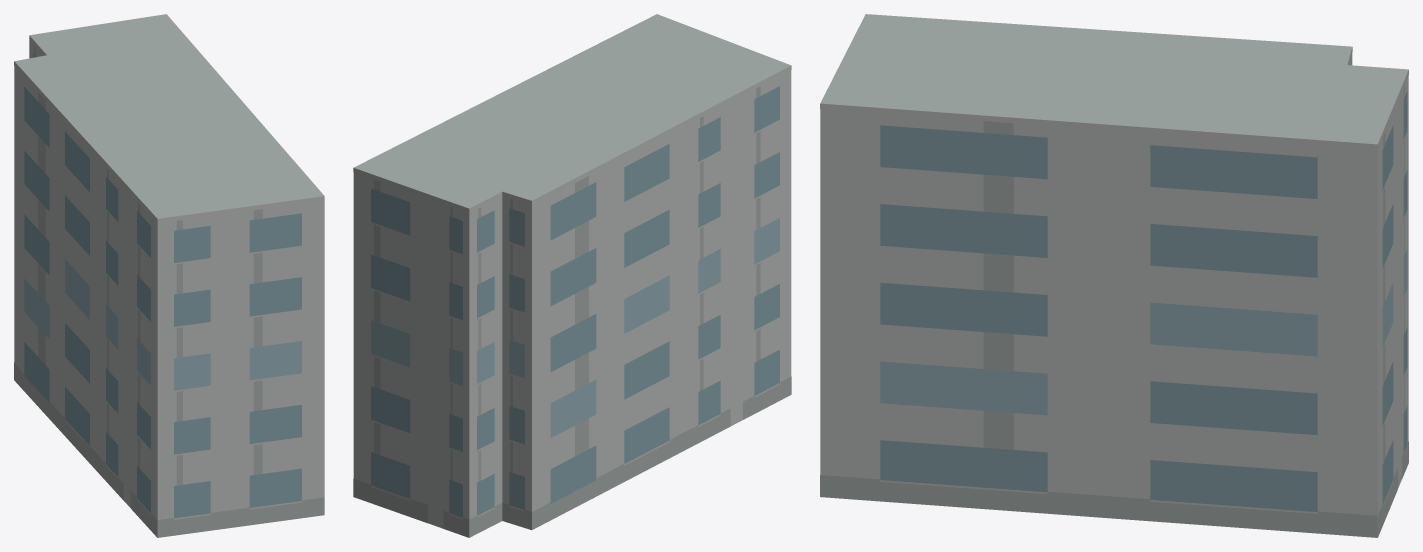
The model's file is survey-upis-32799458.glb.
3 views of the same model, side by side, from view 1: azimuth 30°, elevation 25°; view 2: azimuth 150°, elevation 25°; view 3: azimuth 270°, elevation 25° (orthographic). The views are drawn at different scales.
Visible parts, largest first — view 1: survey-upis-32799458.tmp; view 2: survey-upis-32799458.tmp; view 3: survey-upis-32799458.tmp.
Boxes of the visible parts, left/top/right/bottom form: survey-upis-32799458.tmp: left=14, top=14, right=324, bottom=537; survey-upis-32799458.tmp: left=353, top=14, right=791, bottom=537; survey-upis-32799458.tmp: left=820, top=14, right=1408, bottom=537.
Size of the model in its own units: 12.23 by 17.2 by 23.33.
